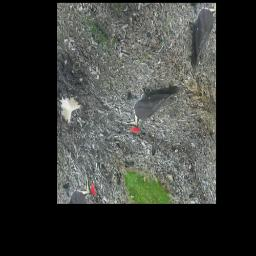Woodpecker: (116, 62, 182, 149)
